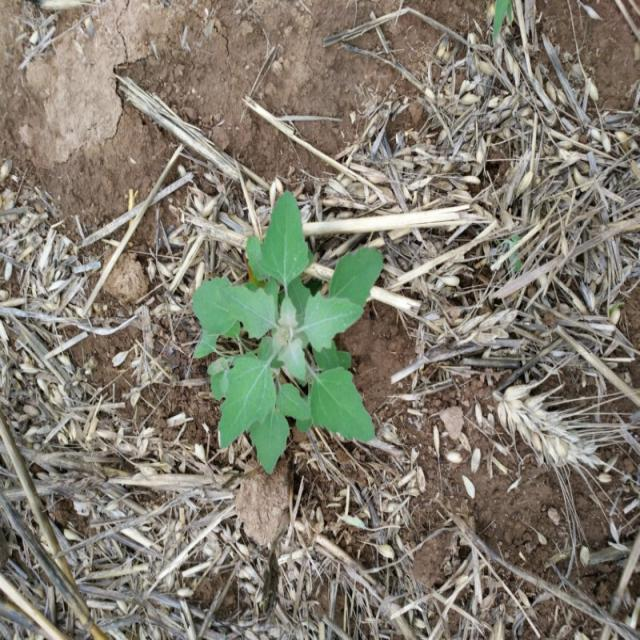goosefoots: (171, 191, 389, 475)
